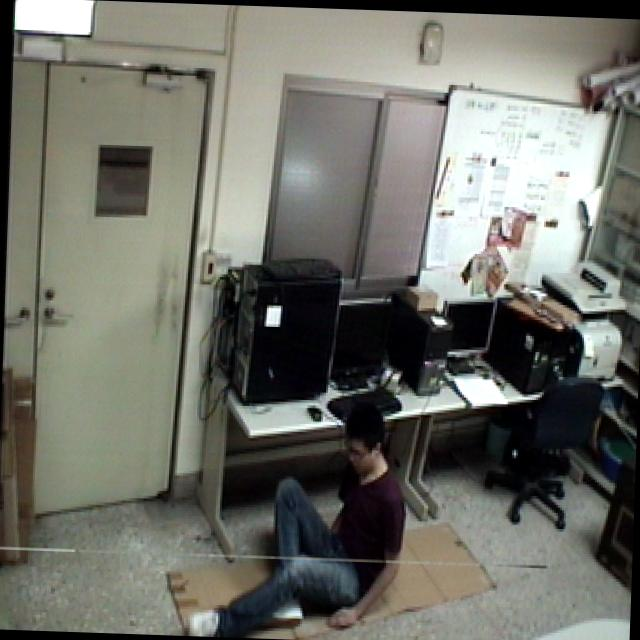sit: (181, 389, 414, 640)
